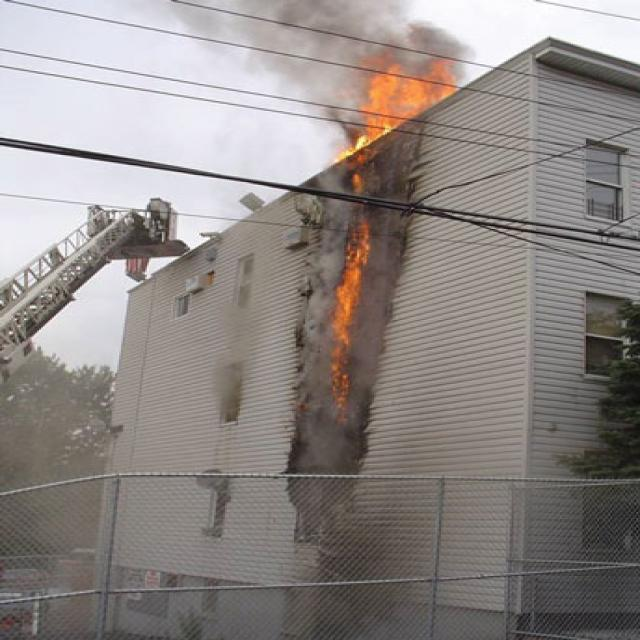fire: (371, 67, 461, 112)
